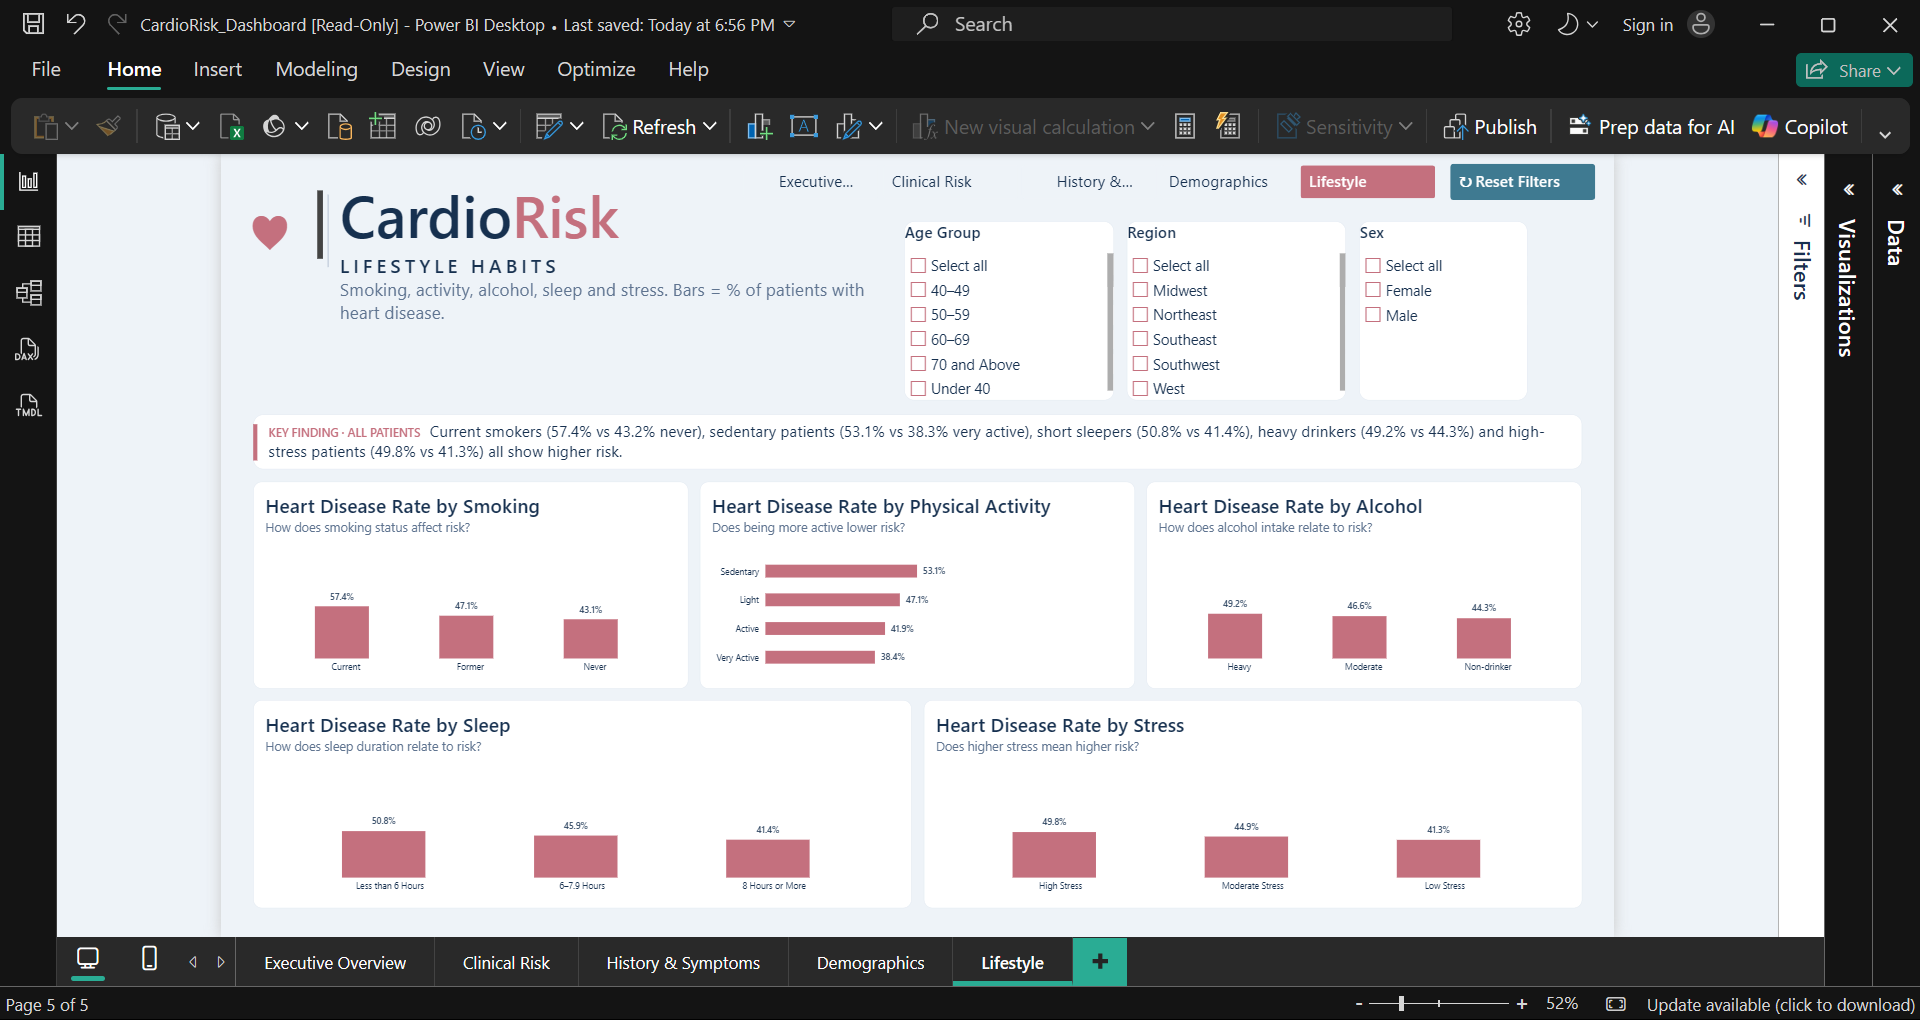

The dashboard page shown, as its layout file describes it:
{"tool":"powerbi","page":{"name":"Lifestyle","canvas":[1920,1080],"ordinal":4},"visuals":[{"type":"textbox","box":[40,50,100,100],"z":900},{"type":"textbox","box":[146,56,2,100],"z":901},{"type":"textbox","box":[164.3,28.1,758.8,261.6],"z":1000},{"type":"textbox","box":[44,359,1832,76],"z":1100},{"type":"textbox","box":[44,372,6,50],"z":1101},{"type":"textbox","box":[66,366,1790,64],"z":1102},{"type":"clusteredColumnChart","title":"Heart Disease Rate by Smoking","fields":{"Category":["heart_disease_clean.smoking_status"],"Y":["heart_disease_clean.Heart Disease Rate by Smoking"]},"box":[44,451,600,286],"z":3000},{"type":"clusteredBarChart","title":"Heart Disease Rate by Physical Activity","fields":{"Category":["heart_disease_clean.physical_activity"],"Y":["heart_disease_clean.Heart Disease Rate by Physical Activity"]},"box":[660,451,600,286],"z":3001},{"type":"clusteredColumnChart","title":"Heart Disease Rate by Alcohol","fields":{"Category":["heart_disease_clean.alcohol_intake"],"Y":["heart_disease_clean.Heart Disease Rate by Alcohol"]},"box":[1276,451,600,286],"z":3002},{"type":"clusteredColumnChart","title":"Heart Disease Rate by Sleep","fields":{"Category":["heart_disease_clean.Sleep Category"],"Y":["heart_disease_clean.Heart Disease Rate by Sleep"]},"box":[44,753,908,287],"z":3003},{"type":"clusteredColumnChart","title":"Heart Disease Rate by Stress","fields":{"Category":["heart_disease_clean.Stress Category"],"Y":["heart_disease_clean.Heart Disease Rate by Stress"]},"box":[968,753,908,287],"z":3004},{"type":"actionButton","box":[720,16,186,46],"z":12000},{"type":"actionButton","box":[912,16,186,46],"z":12000},{"type":"actionButton","box":[1104,16,186,46],"z":12000},{"type":"actionButton","box":[1296,16,186,46],"z":12000},{"type":"actionButton","box":[1488,16,186,46],"z":12000},{"type":"slicer","title":"Age Group","fields":{"Values":["heart_disease_clean.Age Group"]},"box":[942,92,289,247],"z":12200},{"type":"slicer","title":"Region","fields":{"Values":["heart_disease_clean.region"]},"box":[1248,92,302,247],"z":12201},{"type":"slicer","title":"Sex","fields":{"Values":["heart_disease_clean.sex"]},"box":[1569,92,232,247],"z":12202},{"type":"actionButton","box":[1694,14,200,50],"z":12300}]}

Visuals, with their boxes on the page's 1920x1080 design canvas (x1, y1, x2, y2). These are canvas units, not pixel positions in the 1920x1020 screenshot, which may show the page scaled, cropped or inside an application window:
textbox: <region>40, 50, 140, 150</region>
textbox: <region>146, 56, 148, 156</region>
textbox: <region>164, 28, 923, 290</region>
textbox: <region>44, 359, 1876, 435</region>
textbox: <region>44, 372, 50, 422</region>
textbox: <region>66, 366, 1856, 430</region>
"Heart Disease Rate by Smoking" clusteredColumnChart: <region>44, 451, 644, 737</region>
"Heart Disease Rate by Physical Activity" clusteredBarChart: <region>660, 451, 1260, 737</region>
"Heart Disease Rate by Alcohol" clusteredColumnChart: <region>1276, 451, 1876, 737</region>
"Heart Disease Rate by Sleep" clusteredColumnChart: <region>44, 753, 952, 1040</region>
"Heart Disease Rate by Stress" clusteredColumnChart: <region>968, 753, 1876, 1040</region>
actionButton: <region>720, 16, 906, 62</region>
actionButton: <region>912, 16, 1098, 62</region>
actionButton: <region>1104, 16, 1290, 62</region>
actionButton: <region>1296, 16, 1482, 62</region>
actionButton: <region>1488, 16, 1674, 62</region>
"Age Group" slicer: <region>942, 92, 1231, 339</region>
"Region" slicer: <region>1248, 92, 1550, 339</region>
"Sex" slicer: <region>1569, 92, 1801, 339</region>
actionButton: <region>1694, 14, 1894, 64</region>
